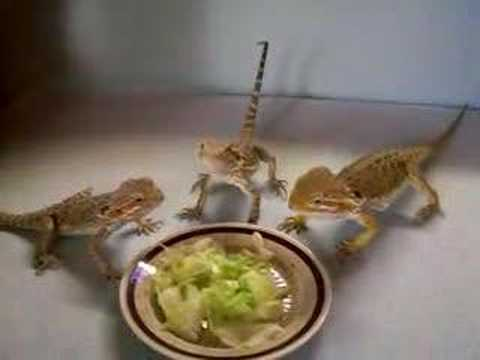bearded: (286, 103, 471, 257), (1, 177, 172, 283), (191, 44, 285, 225)
